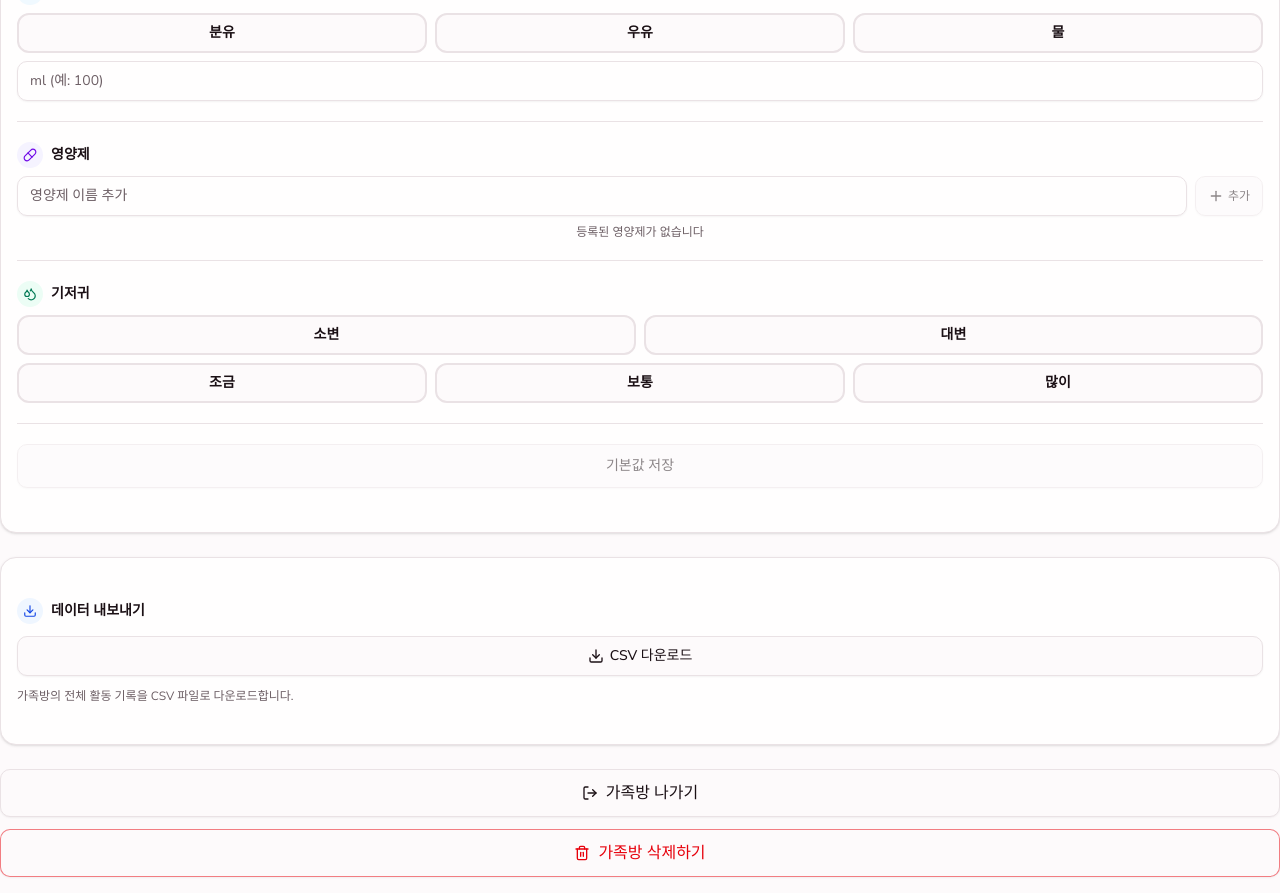
Test: SettingsPage › shows leave confirmation dialog when leave button clicked
(page scrolled)
Click the button "가족방 나가기". click: x=640, y=792
box: [0,768,1279,816]
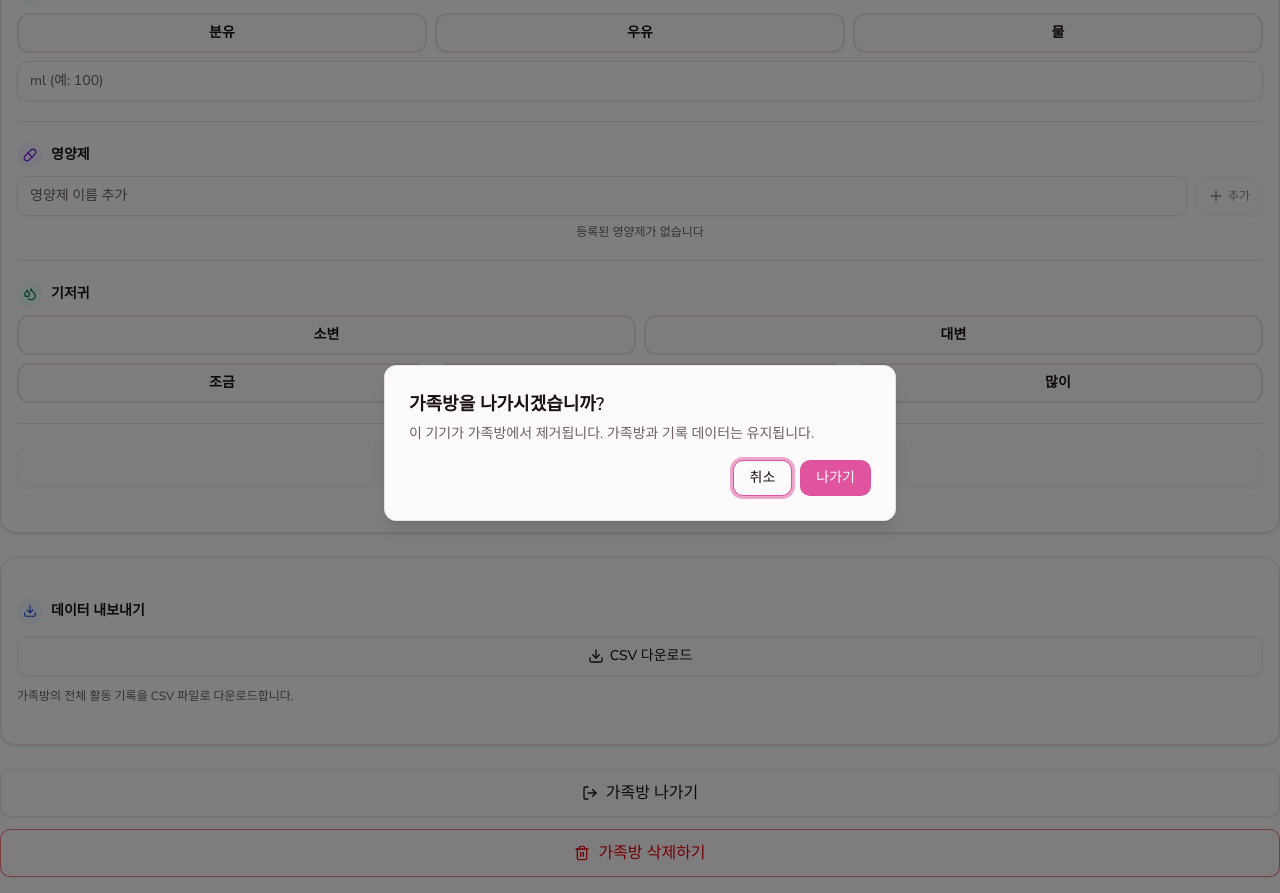
Now the heading "가족방을 나가시겠습니까?" is shown, box [409,390,604,418]
